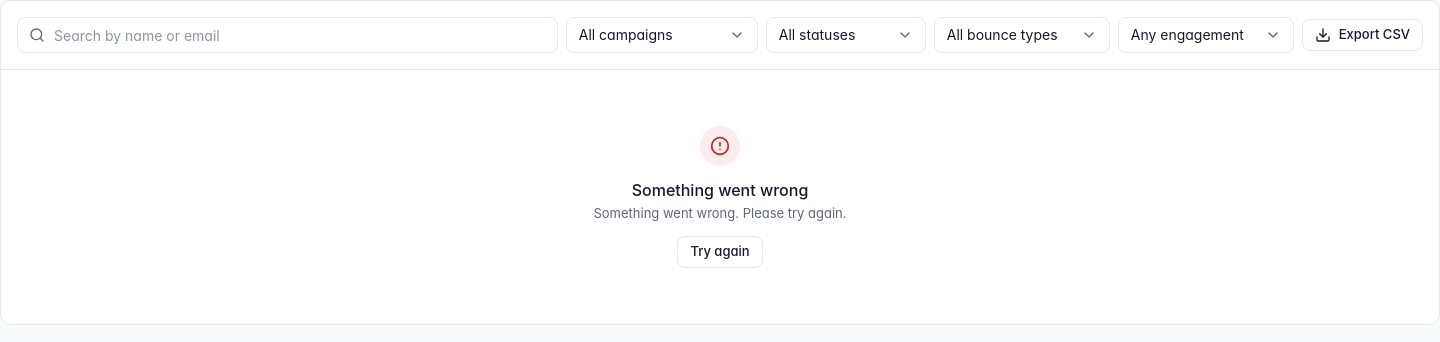
Test: RecipientTable › shows an error state and retries
Expected: the text "Something went wrong. Please try again." is shown, [593,204,846,224]
Click the button "Try again" at {"x": 720, "y": 252}, box [677,236,763,268]
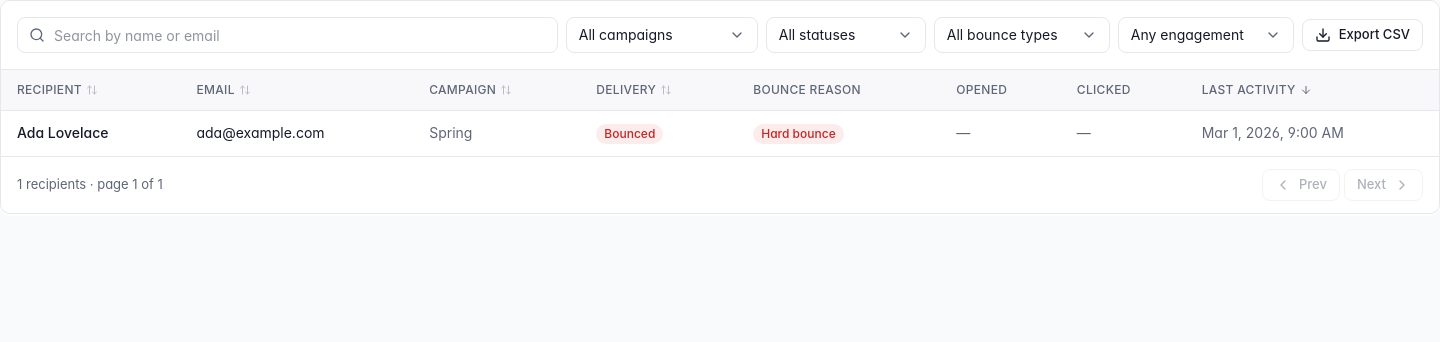
Now the button "ada@example.com" is shown, box [196,123,325,143]
